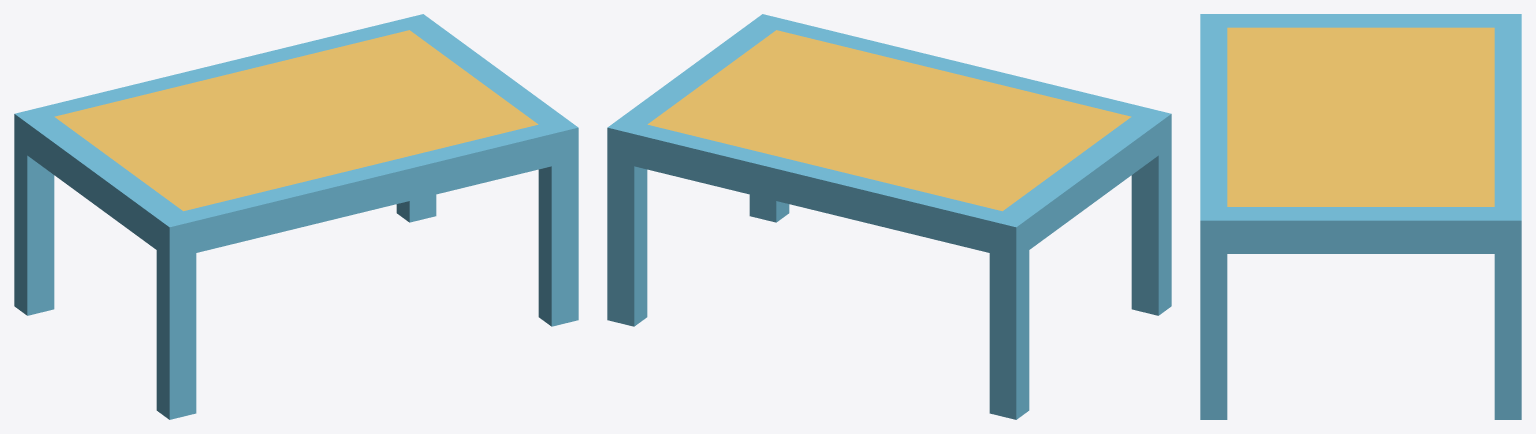
Rendered from table.FBX.
3 renders of one model, left to right at view 1: azimuth 30°, elevation 25°; view 2: azimuth 150°, elevation 25°; view 3: azimuth 270°, elevation 25°, orthographic. The views are drawn at different scales.
Parts seen in each view (by area): view 1: table; view 2: table; view 3: table.
Part boxes in pixels (bbox=[...]): table: bbox=[14, 14, 578, 419]; table: bbox=[607, 14, 1171, 419]; table: bbox=[1200, 14, 1521, 419].
Bounding box in the file's own units: 33.39 × 15.03 × 21.95.
